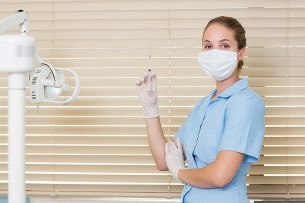Mask: (197, 36, 243, 82)
